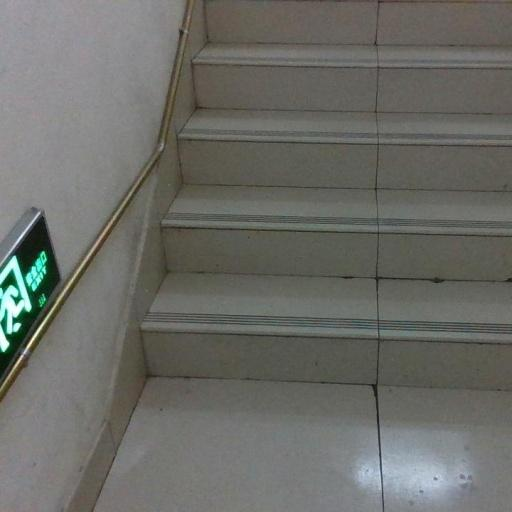stairs: (143, 0, 511, 388)
